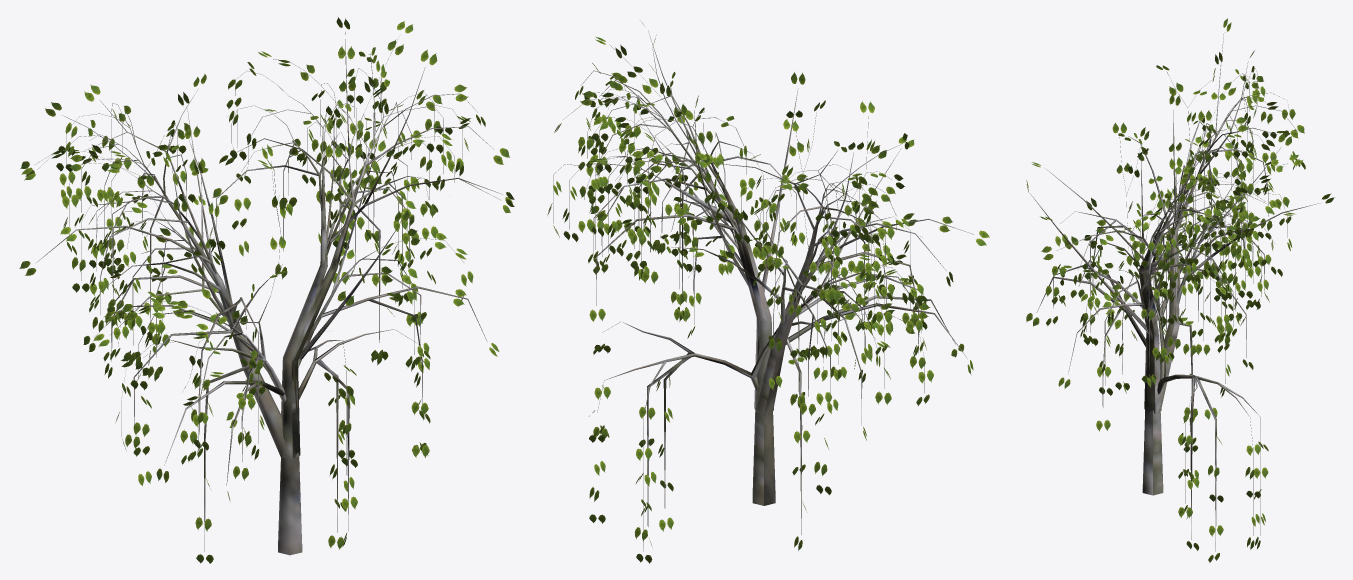
File: willow_wind_tex.glb
3 views of the same model, side by side, from view 1: azimuth 30°, elevation 25°; view 2: azimuth 150°, elevation 25°; view 3: azimuth 270°, elevation 25° (orthographic). The views are drawn at different scales.
Parts seen in each view (by area): view 1: leaves, tree; view 2: leaves, tree; view 3: leaves, tree.
Boxes of the visible parts, <box> form: leaves: <box>19,17,514,563</box>; tree: <box>35,32,502,555</box>; leaves: <box>547,20,989,563</box>; tree: <box>553,30,973,551</box>; leaves: <box>1026,18,1334,562</box>; tree: <box>1030,32,1320,551</box>.
Size of the model in its own units: 6.58 by 7.68 by 4.81.
Materials: 2 (2 with a texture image).
